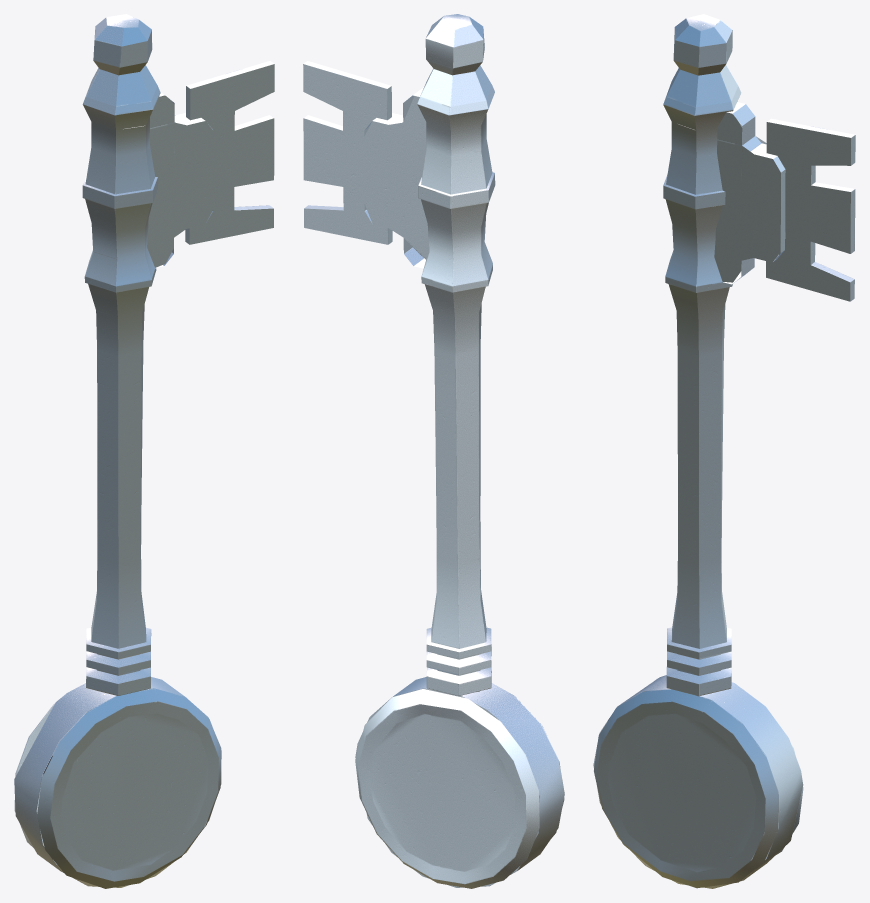
The model's file is Key.glb.
3 renders of one model, left to right at view 1: azimuth 30°, elevation 25°; view 2: azimuth 150°, elevation 25°; view 3: azimuth 330°, elevation 25°, orthographic.
Parts seen in each view (by area): view 1: Retopo_Object_2.002; view 2: Retopo_Object_2.002; view 3: Retopo_Object_2.002.
Boxes of the visible parts, x1=… form: Retopo_Object_2.002: x1=14, y1=14, x2=274, y2=888; Retopo_Object_2.002: x1=303, y1=14, x2=564, y2=888; Retopo_Object_2.002: x1=593, y1=14, x2=855, y2=888.
Size of what is drawn, in the model's own units: 1.34 by 4.42 by 0.3648.
Materials: 1 (1 with a texture image).
